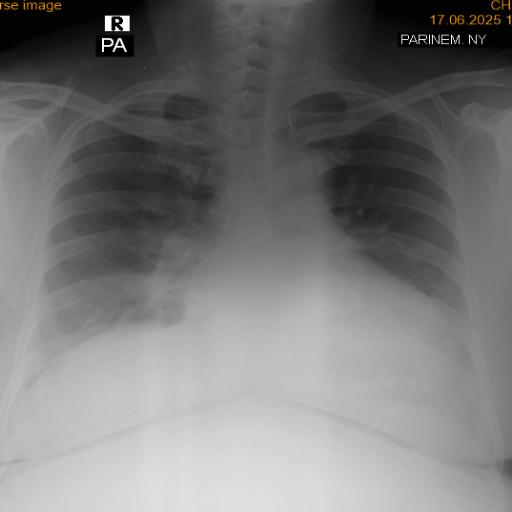kardiomegali: (170, 213, 476, 382)
